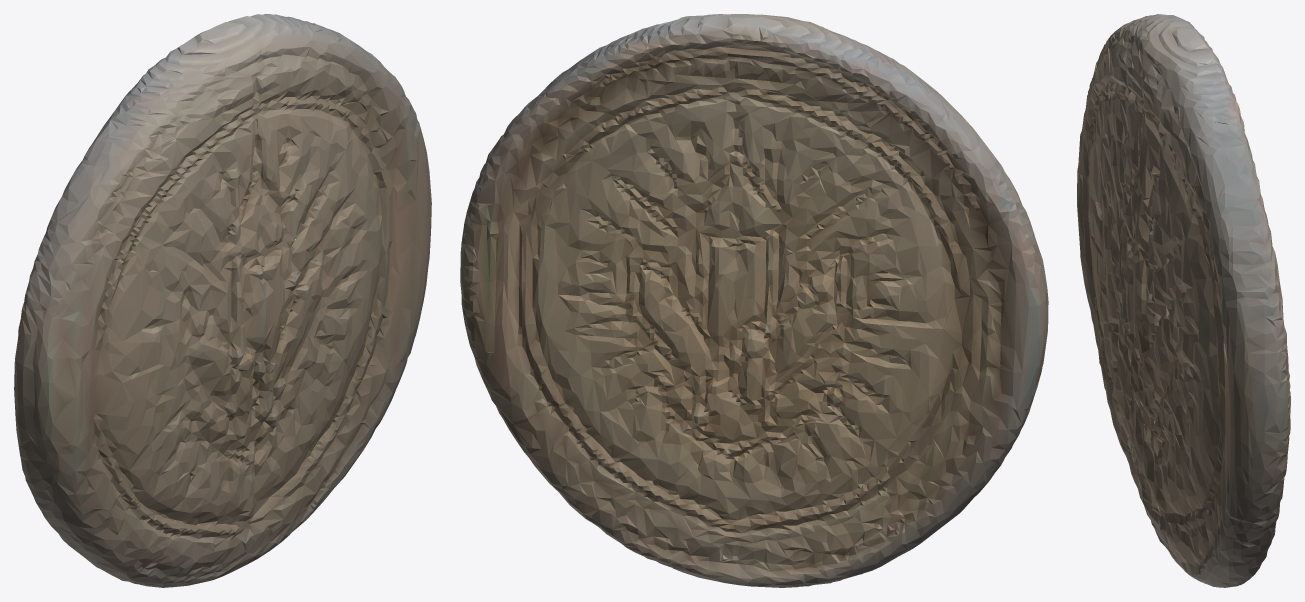
Rendered from coin.glb.
3 views of the same model, side by side, from view 1: azimuth 30°, elevation 25°; view 2: azimuth 150°, elevation 25°; view 3: azimuth 270°, elevation 25° (orthographic). The views are drawn at different scales.
Visible parts, largest first — view 1: world; view 2: world; view 3: world.
Part boxes in pixels (x1=…): world: x1=14, y1=14, x2=431, y2=587; world: x1=460, y1=14, x2=1048, y2=587; world: x1=1077, y1=14, x2=1290, y2=587.
Bounding box in the file's own units: 0.9339 × 0.9999 × 0.3685.
